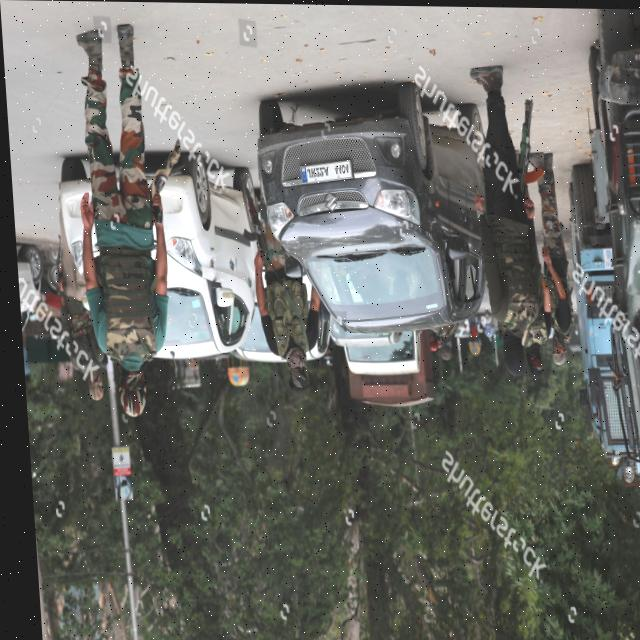plate: (295, 152, 353, 188)
